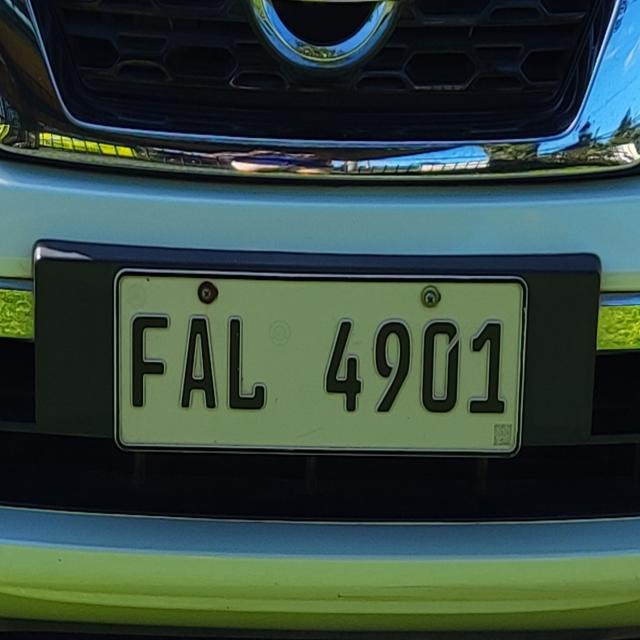plate: (103, 261, 537, 466)
